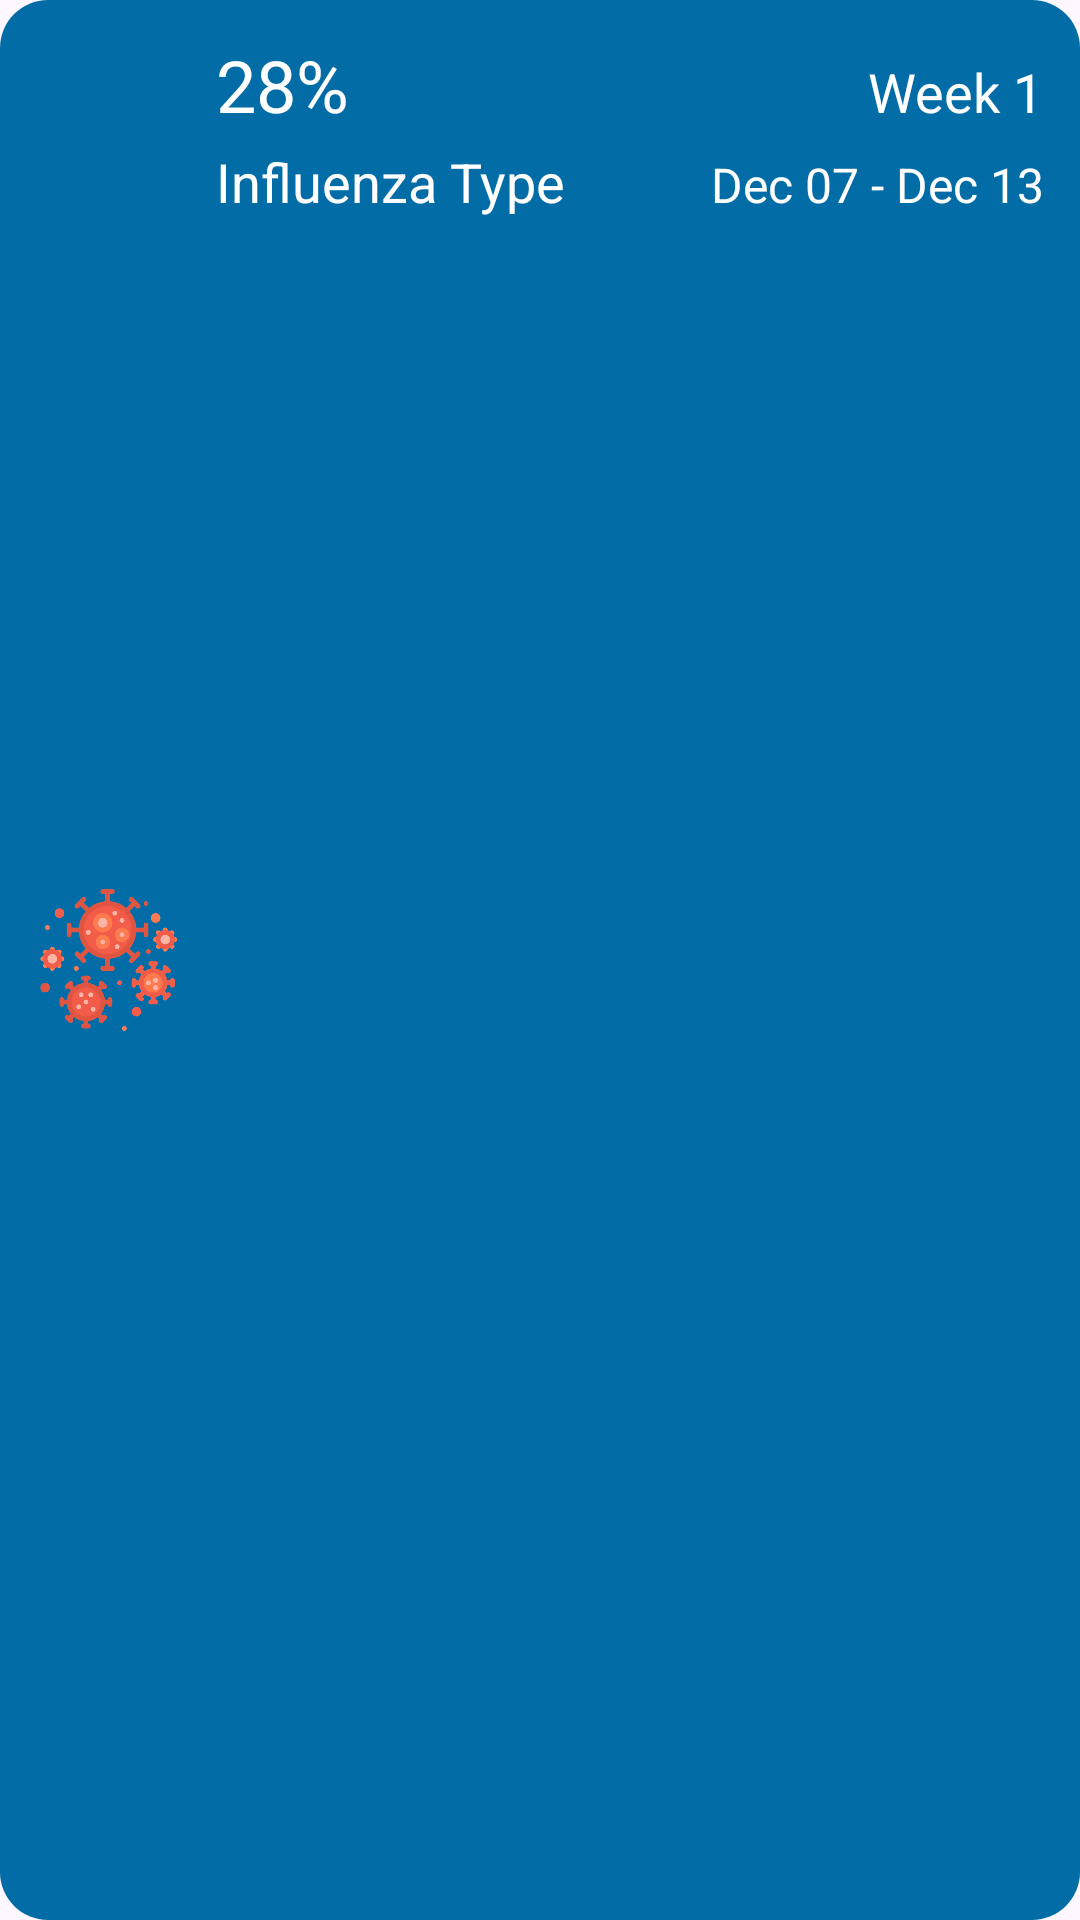

Named icons in this screenshot (1080px×1920px) and their centers, point (x, y):
Virus Icon: point (108, 960)
